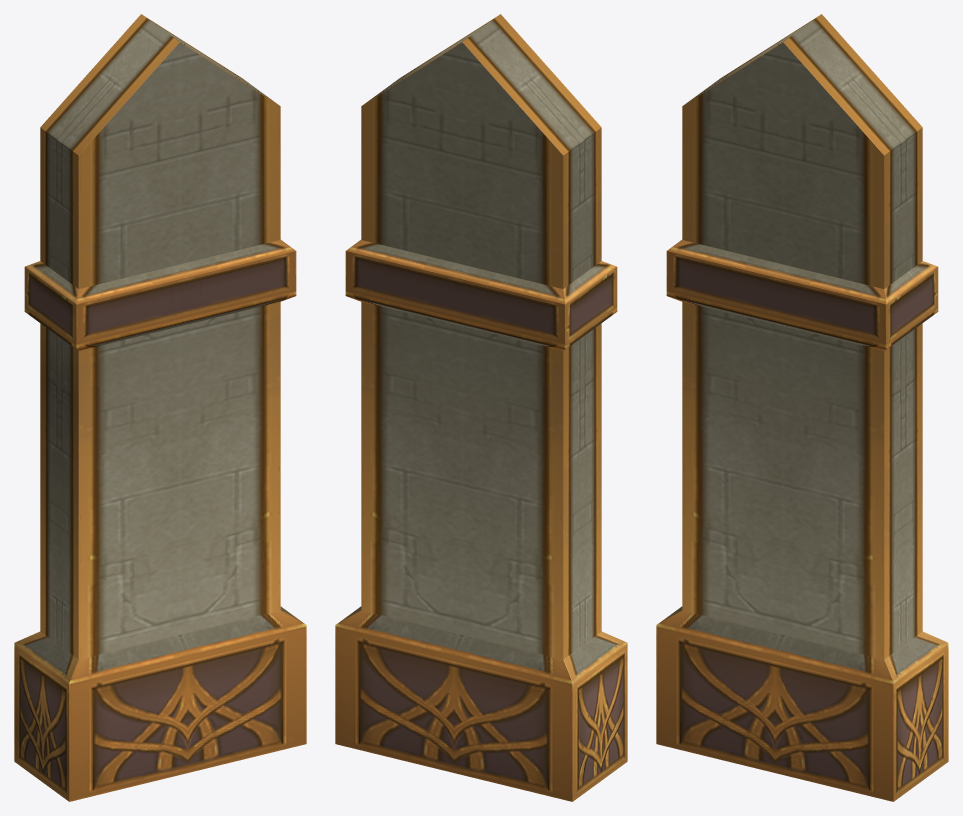
The model's file is Battle03_Pillars_02.FBX.
3 views of the same model, side by side, from view 1: azimuth 30°, elevation 25°; view 2: azimuth 150°, elevation 25°; view 3: azimuth 330°, elevation 25° (orthographic).
Visible parts, largest first — view 1: Battle03_Pillars_02; view 2: Battle03_Pillars_02; view 3: Battle03_Pillars_02.
Part boxes in pixels (bbox=[...]): Battle03_Pillars_02: bbox=[14, 14, 306, 801]; Battle03_Pillars_02: bbox=[335, 14, 627, 801]; Battle03_Pillars_02: bbox=[656, 14, 948, 801].
Size of the model in its own units: 4.28 by 12.49 by 1.72.
